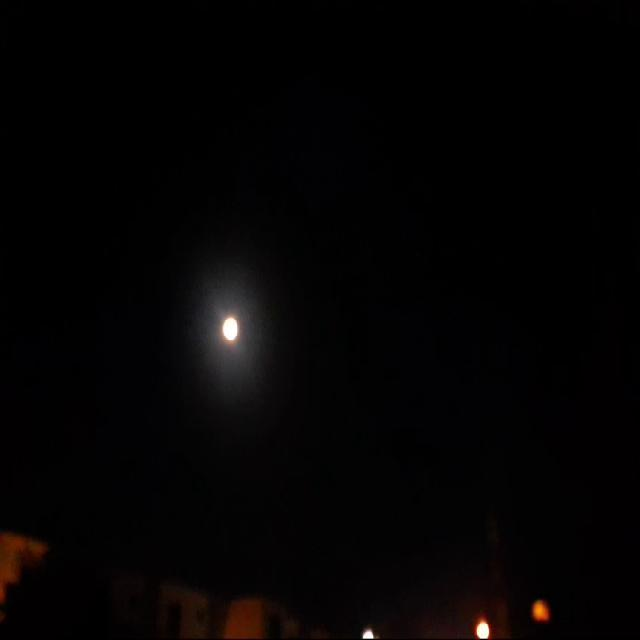moon: (208, 306, 230, 346)
